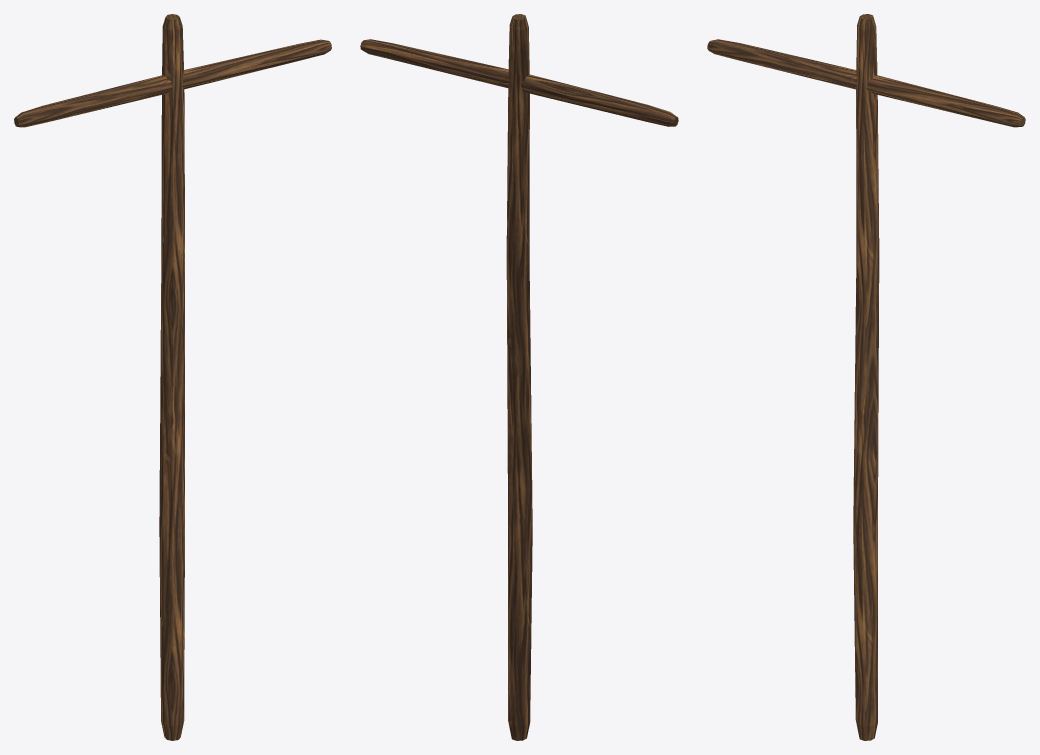
File: Estandarte.glb
The picture shows the model from 3 angles, left to right: view 1: azimuth 30°, elevation 25°; view 2: azimuth 150°, elevation 25°; view 3: azimuth 330°, elevation 25°; orthographic projection.
Parts seen in each view (by area): view 1: Haste vertical, Travessa; view 2: Haste vertical, Travessa; view 3: Haste vertical, Travessa.
Part boxes in pixels (x1=…): Haste vertical: x1=159, y1=14, x2=184, y2=740; Travessa: x1=14, y1=39, x2=331, y2=127; Haste vertical: x1=506, y1=14, x2=532, y2=740; Travessa: x1=360, y1=39, x2=678, y2=126; Haste vertical: x1=853, y1=14, x2=879, y2=740; Travessa: x1=707, y1=39, x2=1025, y2=127.
Size of the model in its own units: 1.12 by 2.47 by 0.0804.
1 material, 1 textured.
